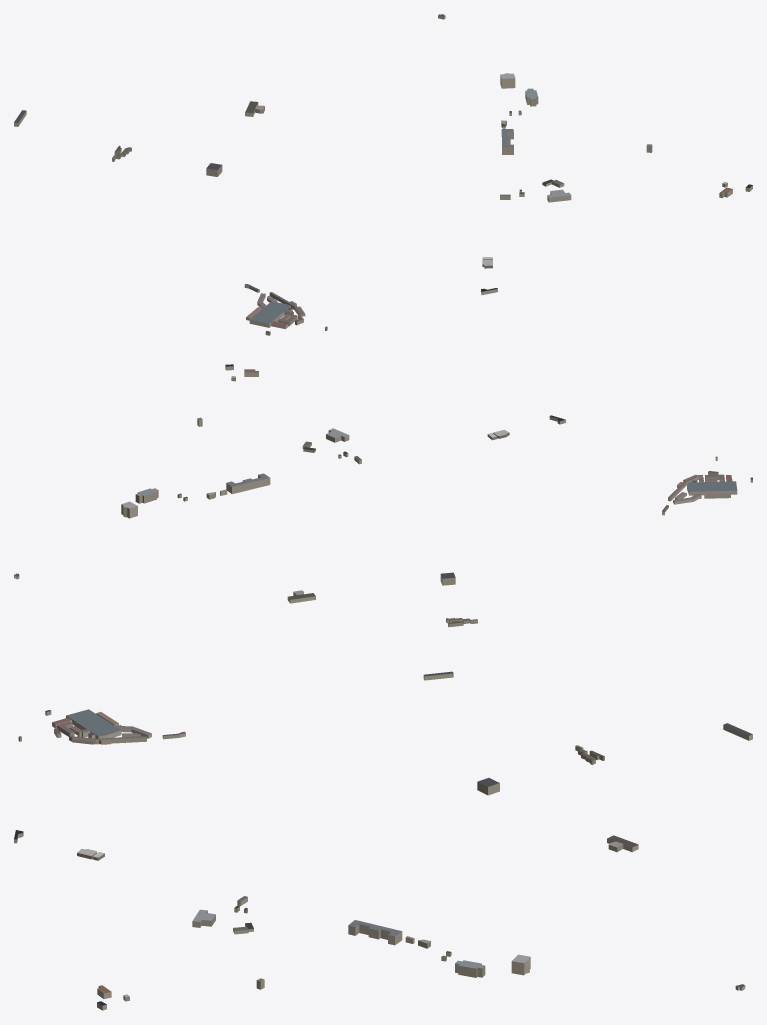
3 views of the same model, one above another, from view 1: azimuth 30°, elevation 25°; view 2: azimuth 150°, elevation 25°; view 3: azimuth 270°, elevation 25° (orthographic). The views are drawn at different scales.
Visible parts, largest first — view 1: tuile; view 2: tuile; view 3: tuile.
Part boxes in pixels (x1,y1,x2,y2): tuile: [14, 14, 752, 335]; tuile: [14, 364, 752, 680]; tuile: [14, 709, 752, 1010].
Size of the model in its own units: 821 by 20.66 by 842.
